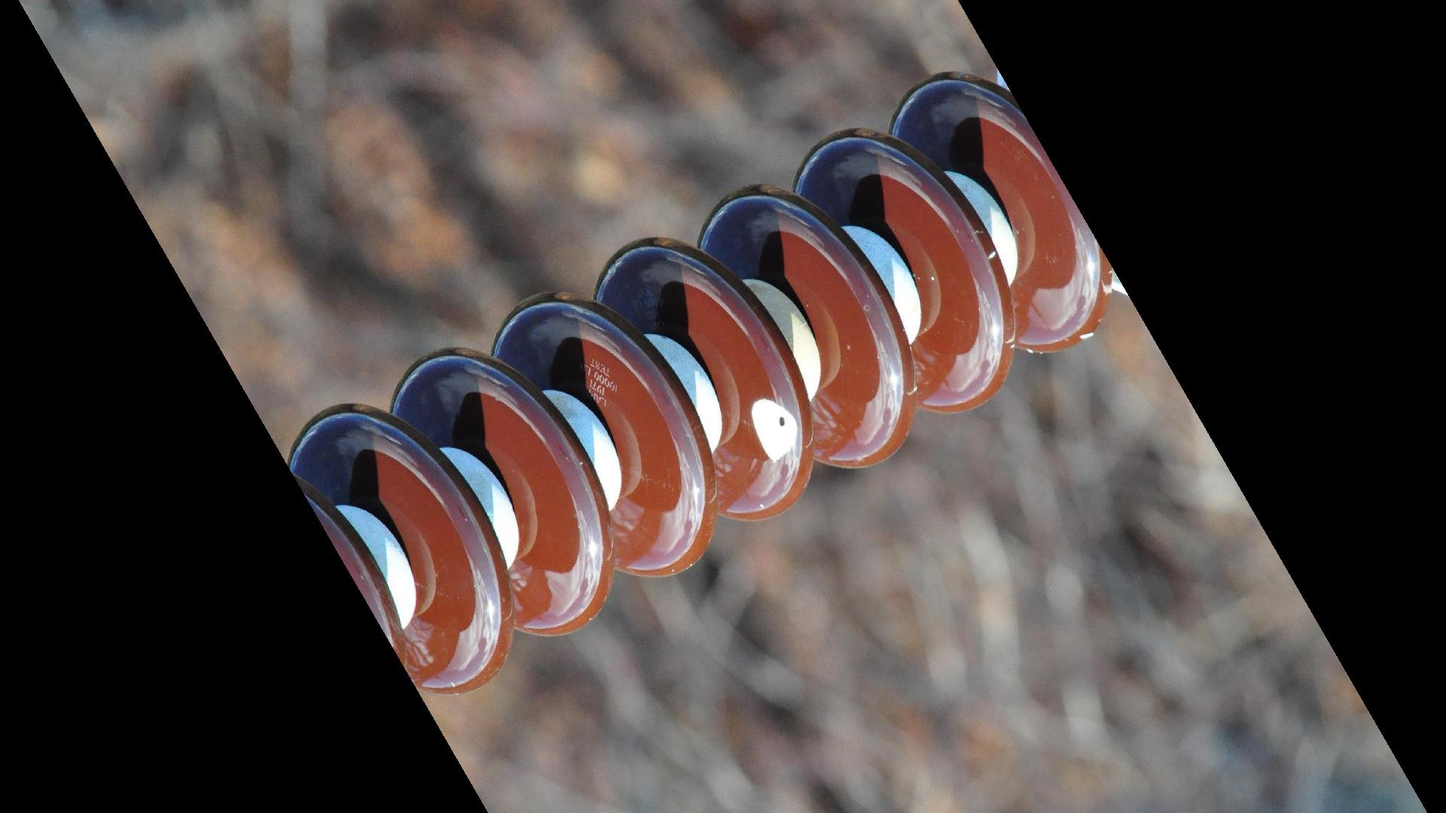insulator: (279, 62, 1139, 701)
insulator_breakage: (737, 391, 811, 474)
